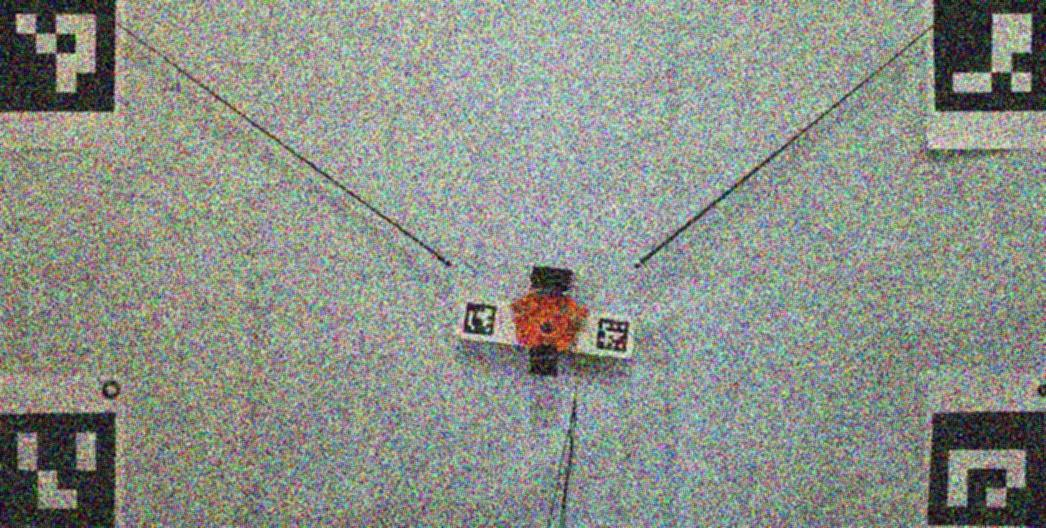robot: (510, 265, 589, 378)
